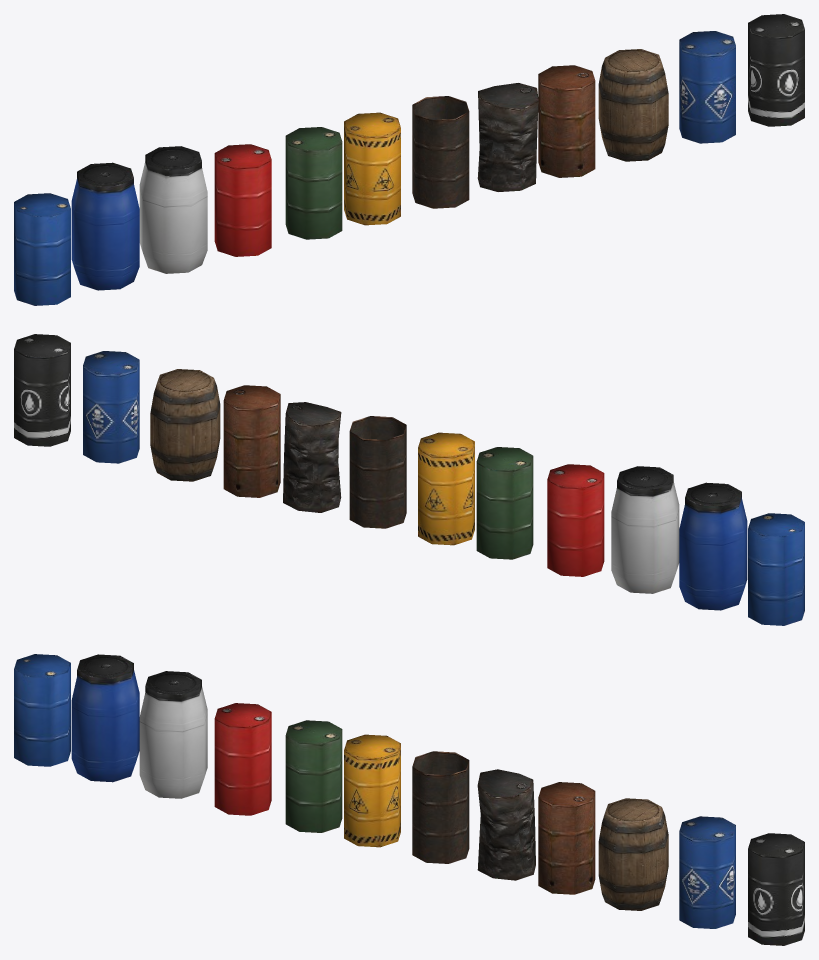
File: PSX Barrels Pack.fbx
3 views of the same model, one above another, from view 1: azimuth 30°, elevation 25°; view 2: azimuth 150°, elevation 25°; view 3: azimuth 330°, elevation 25° (orthographic).
Parts seen in each view (by area): view 1: White Plastic Drum, Blue Plastic Drum, Wooden Barrel, Green Steel Drum, Open Steel Barrel, Red Steel Drum, Rusty Leaking Barrel, Crushed Barrel, Yellow Hazard Drum, Oil Drum, Standard 55 Gallon Steel Drum, Industrial Chemical Barrel; view 2: White Plastic Drum, Blue Plastic Drum, Wooden Barrel, Green Steel Drum, Open Steel Barrel, Red Steel Drum, Rusty Leaking Barrel, Yellow Hazard Drum, Oil Drum, Standard 55 Gallon Steel Drum, Industrial Chemical Barrel, Crushed Barrel; view 3: Blue Plastic Drum, White Plastic Drum, Wooden Barrel, Green Steel Drum, Open Steel Barrel, Red Steel Drum, Rusty Leaking Barrel, Yellow Hazard Drum, Oil Drum, Standard 55 Gallon Steel Drum, Industrial Chemical Barrel, Crushed Barrel.
Boxes of the visible parts, box(x1,y1,x2,y2) form: White Plastic Drum: box(139, 146, 207, 273); Blue Plastic Drum: box(71, 162, 139, 290); Wooden Barrel: box(598, 49, 668, 161); Green Steel Drum: box(285, 127, 342, 239); Open Steel Barrel: box(412, 96, 469, 208); Red Steel Drum: box(214, 144, 271, 256); Rusty Leaking Barrel: box(538, 65, 595, 177); Crushed Barrel: box(477, 83, 538, 191); Yellow Hazard Drum: box(344, 112, 400, 225); Oil Drum: box(748, 14, 804, 126); Standard 55 Gallon Steel Drum: box(14, 193, 70, 305); Industrial Chemical Barrel: box(679, 31, 735, 143); White Plastic Drum: box(611, 466, 679, 593); Blue Plastic Drum: box(679, 482, 747, 610); Wooden Barrel: box(150, 369, 220, 481); Green Steel Drum: box(476, 447, 533, 559); Open Steel Barrel: box(349, 416, 406, 528); Red Steel Drum: box(547, 464, 604, 576); Rusty Leaking Barrel: box(223, 385, 280, 497); Yellow Hazard Drum: box(418, 432, 474, 545); Oil Drum: box(14, 334, 70, 446); Standard 55 Gallon Steel Drum: box(748, 513, 804, 625); Industrial Chemical Barrel: box(83, 351, 139, 463); Crushed Barrel: box(283, 402, 341, 512); Blue Plastic Drum: box(71, 654, 139, 782); White Plastic Drum: box(139, 671, 207, 798); Wooden Barrel: box(598, 798, 668, 910); Green Steel Drum: box(285, 720, 342, 832); Open Steel Barrel: box(412, 751, 469, 863); Red Steel Drum: box(214, 703, 271, 815); Rusty Leaking Barrel: box(538, 782, 595, 894); Yellow Hazard Drum: box(344, 734, 400, 847); Oil Drum: box(748, 833, 804, 945); Standard 55 Gallon Steel Drum: box(14, 654, 70, 766); Industrial Chemical Barrel: box(679, 816, 735, 928); Crushed Barrel: box(477, 769, 535, 880).
Size of the model in its own units: 3080 by 391 by 246.
